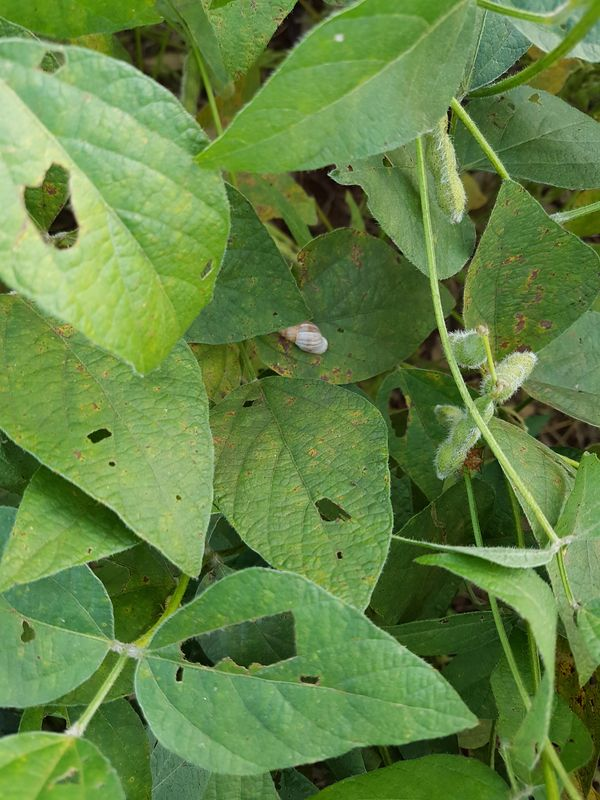Euschistus_heros_adulto: (454, 442, 493, 477)
Gastropoda: (270, 315, 335, 363)
